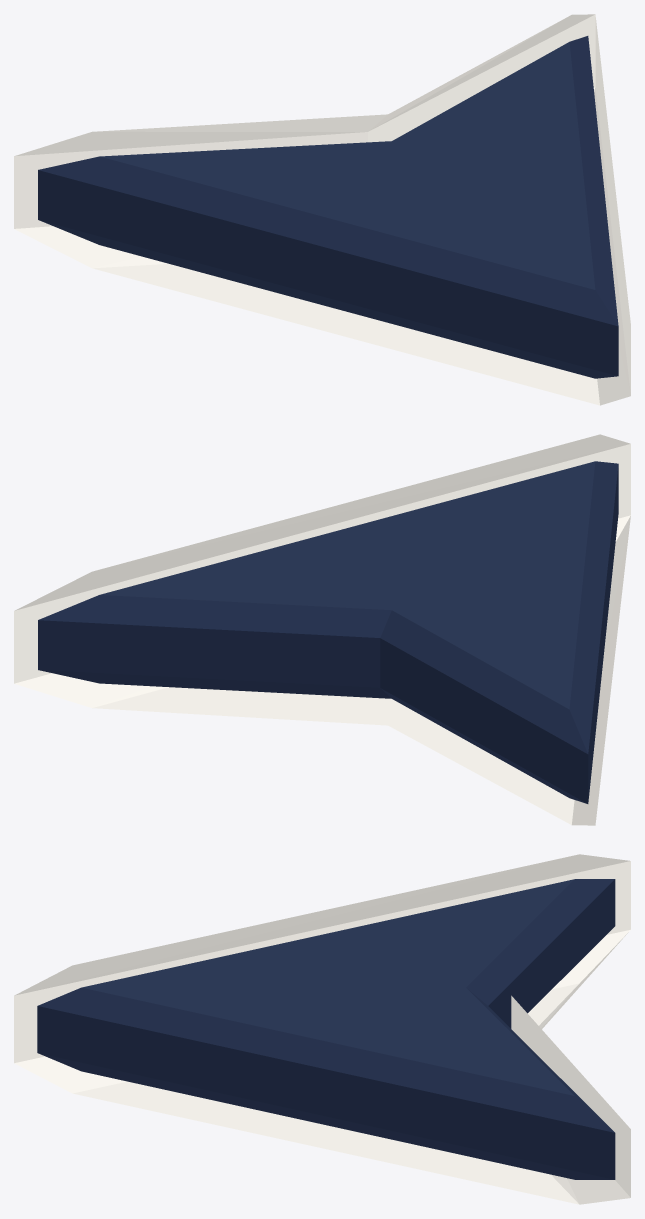
Rendered from arrow_head.glb.
The picture shows the model from 3 angles, top to bottom: view 1: azimuth 30°, elevation 25°; view 2: azimuth 150°, elevation 25°; view 3: azimuth 270°, elevation 25°; orthographic projection. The views are drawn at different scales.
Visible parts, largest first — view 1: arrow_head, arrow_head_ink; view 2: arrow_head, arrow_head_ink; view 3: arrow_head, arrow_head_ink.
Part boxes in pixels (box(x1,y1,x2,y2)): arrow_head: box(38, 36, 618, 378); arrow_head_ink: box(14, 14, 630, 405); arrow_head: box(38, 461, 618, 803); arrow_head_ink: box(14, 434, 630, 825); arrow_head: box(37, 879, 615, 1179); arrow_head_ink: box(14, 854, 630, 1204).
Size of the model in its own units: 1.1 by 0.2465 by 1.07.
